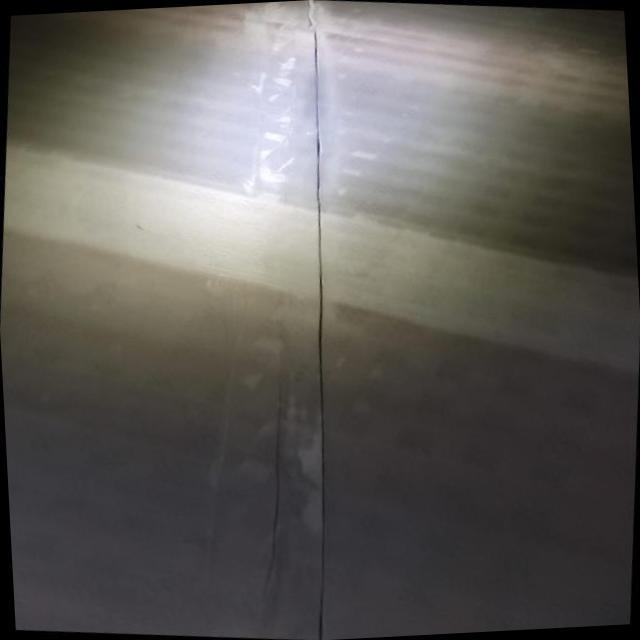Tear: (298, 0, 339, 640)
